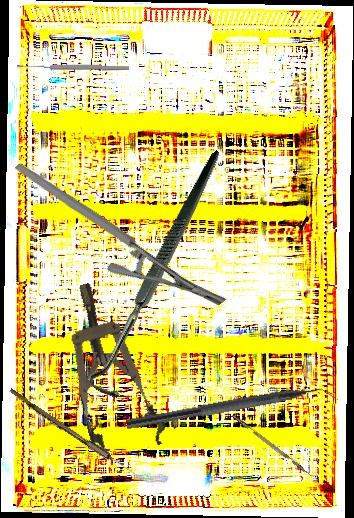Chopper: (125, 379, 339, 444), (231, 410, 319, 481)
Hook Surgical: (22, 150, 301, 405)
Needle Holder: (14, 113, 227, 354)
Speculum: (48, 273, 171, 463)
Surgical Spoon: (6, 388, 149, 484), (16, 63, 130, 71)
